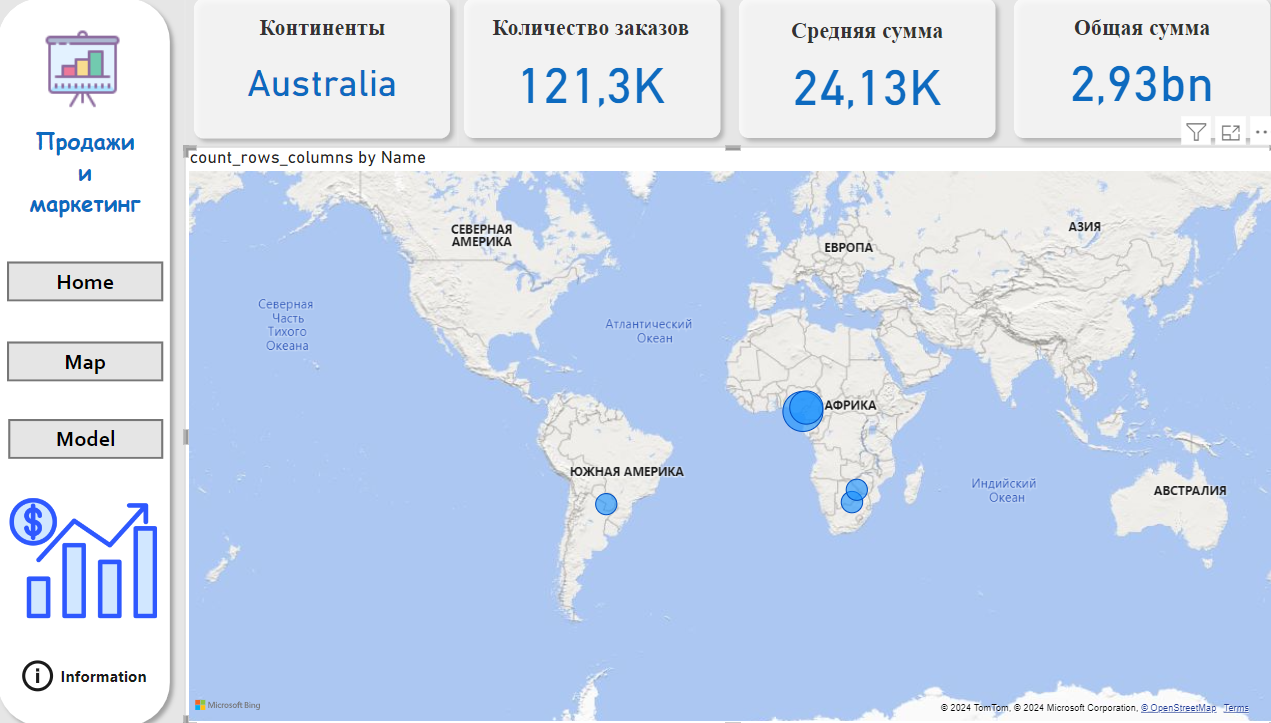

The page's visual inventory and layout, read from the dashboard file:
{"tool":"powerbi","page":{"name":"Map","canvas":[1280,720],"ordinal":1},"visuals":[{"type":"shape","box":[20,0,184.3,720],"z":0},{"type":"shape","box":[1001.4,0,265.7,152.9],"z":1000},{"type":"shape","box":[470,0,265.7,152.9],"z":2000},{"type":"shape","box":[735.7,0,265.7,152.9],"z":3000},{"type":"shape","box":[209.3,0,265.3,153.3],"z":4000},{"type":"textbox","box":[18.1,126.7,191.8,102.5],"z":5000},{"type":"card","title":"Континенты","fields":{"Values":["Min(marketin_sales_table.Name)"]},"box":[233.7,25.6,217.8,99.8],"z":6000},{"type":"card","title":"Количество заказов","fields":{"Values":["marketin_sales_table.count_rows_columns"]},"box":[493.8,25,217.5,100],"z":8000},{"type":"card","title":"Средняя сумма","fields":{"Values":["Avg(marketin_sales_table.TotalDue)"]},"box":[760,27.5,217.5,100],"z":9000},{"type":"image","box":[62.7,31.4,97.7,91.7],"z":10000},{"type":"actionButton","title":"model","box":[39.8,415,149.6,38.6],"z":11000},{"type":"actionButton","title":"Map","box":[38.6,340.2,150.8,38.6],"z":12000},{"type":"actionButton","box":[38.6,263,150.8,38.6],"z":13000},{"type":"image","box":[36.2,470.5,152,156.8],"z":14000},{"type":"actionButton","box":[48.3,643,129.1,39.8],"z":15000},{"type":"map","fields":{"Category":["marketin_sales_table.Name"],"Size":["marketin_sales_table.count_rows_columns"]},"box":[210,152.5,1057.5,558.8],"z":16000},{"type":"card","title":"Общая сумма","fields":{"Values":["Sum(marketin_sales_table.TotalDue)"]},"box":[1030,25,207.5,97.5],"z":16001}]}

Visuals, with their boxes on the page's 1280x720 design canvas (x1, y1, x2, y2). These are canvas units, not pixel positions in the 1271x723 screenshot, which may show the page scaled, cropped or inside an application window:
shape: (20,0,204,720)
shape: (1001,0,1267,153)
shape: (470,0,736,153)
shape: (736,0,1001,153)
shape: (209,0,475,153)
textbox: (18,127,210,229)
"Континенты" card: (234,26,452,125)
"Количество заказов" card: (494,25,711,125)
"Средняя сумма" card: (760,28,978,128)
image: (63,31,160,123)
"model" actionButton: (40,415,189,454)
"Map" actionButton: (39,340,189,379)
actionButton: (39,263,189,302)
image: (36,470,188,627)
actionButton: (48,643,177,683)
map - marketin_sales_table.Name x marketin_sales_table.count_rows_columns: (210,152,1268,711)
"Общая сумма" card: (1030,25,1238,122)
